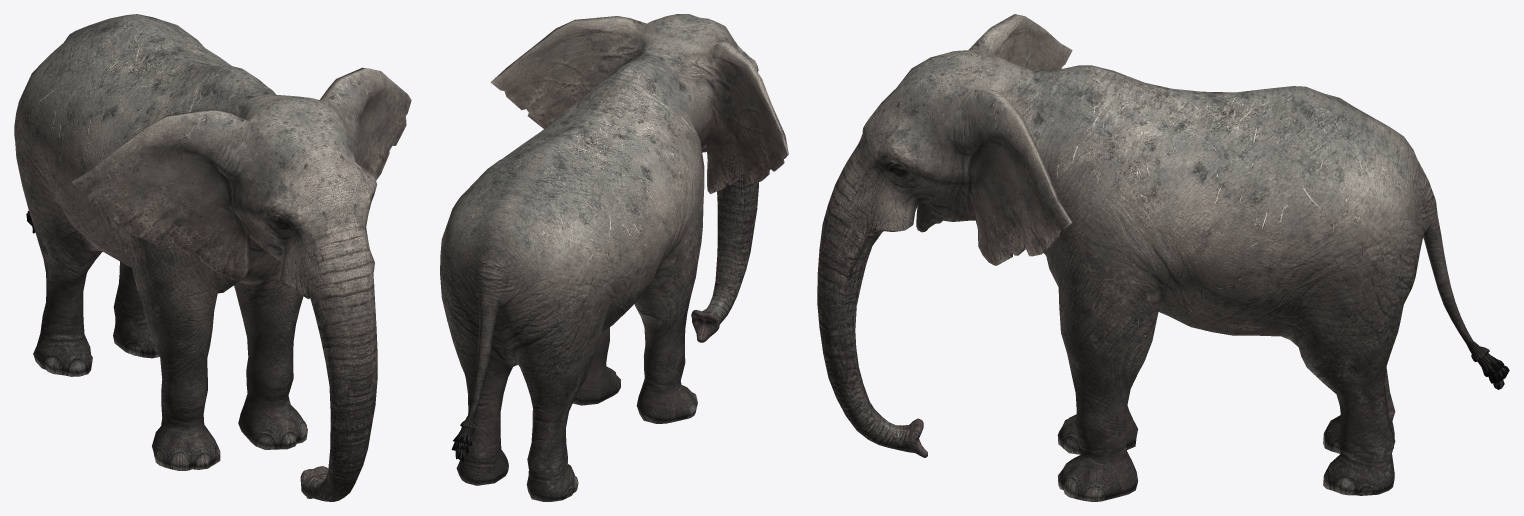
The model's file is Gajah.fbx.
3 views of the same model, side by side, from view 1: azimuth 30°, elevation 25°; view 2: azimuth 150°, elevation 25°; view 3: azimuth 270°, elevation 25° (orthographic). The views are drawn at different scales.
Parts seen in each view (by area): view 1: body_main; view 2: body_main; view 3: body_main.
Part boxes in pixels (bbox=[...]): body_main: bbox=[14, 14, 411, 501]; body_main: bbox=[440, 14, 788, 501]; body_main: bbox=[817, 14, 1509, 501].
Bounding box in the file's own units: 494 × 538 × 834.
